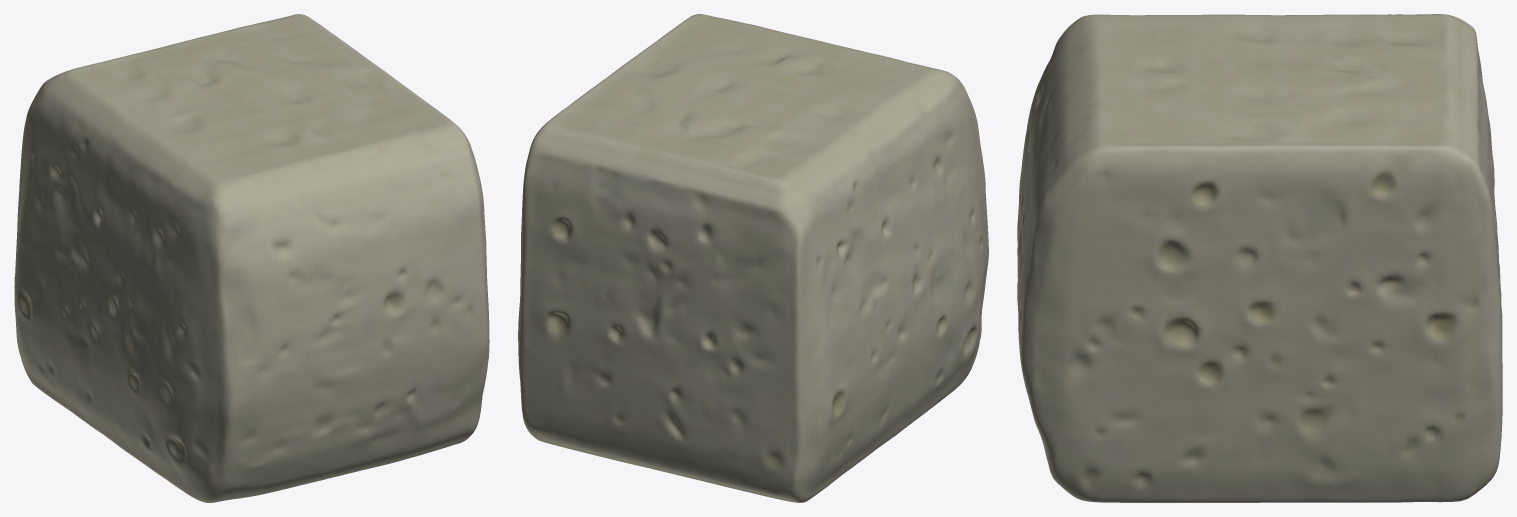
The model's file is FetaCheese.fbx.
3 views of the same model, side by side, from view 1: azimuth 30°, elevation 25°; view 2: azimuth 150°, elevation 25°; view 3: azimuth 270°, elevation 25° (orthographic). The views are drawn at different scales.
Visible parts, largest first — view 1: high_poly; view 2: high_poly; view 3: high_poly.
Part boxes in pixels (<box>): high_poly: <box>14,14,489,502</box>; high_poly: <box>518,14,988,502</box>; high_poly: <box>1017,14,1502,502</box>.
Bounding box in the file's own units: 81.74 × 81.85 × 100.
